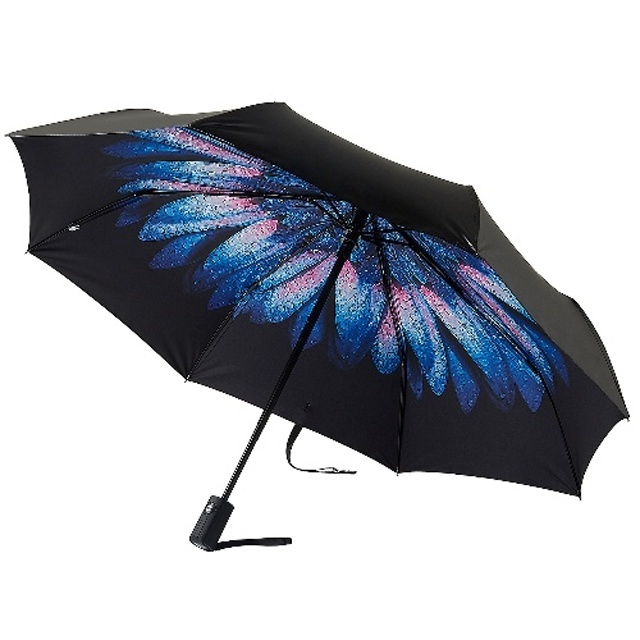umbrella: (4, 95, 640, 558)
